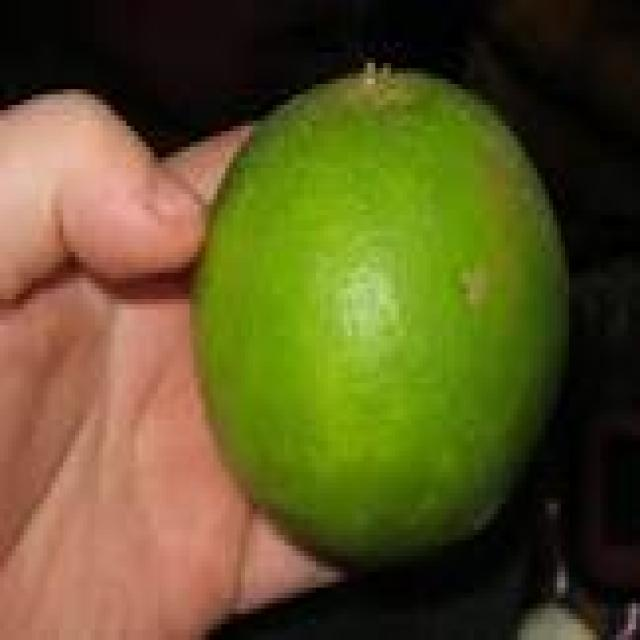orange: (194, 73, 561, 556)
